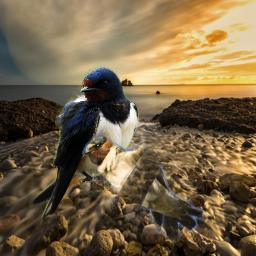Swallow: (29, 66, 140, 222), (82, 134, 205, 242)
